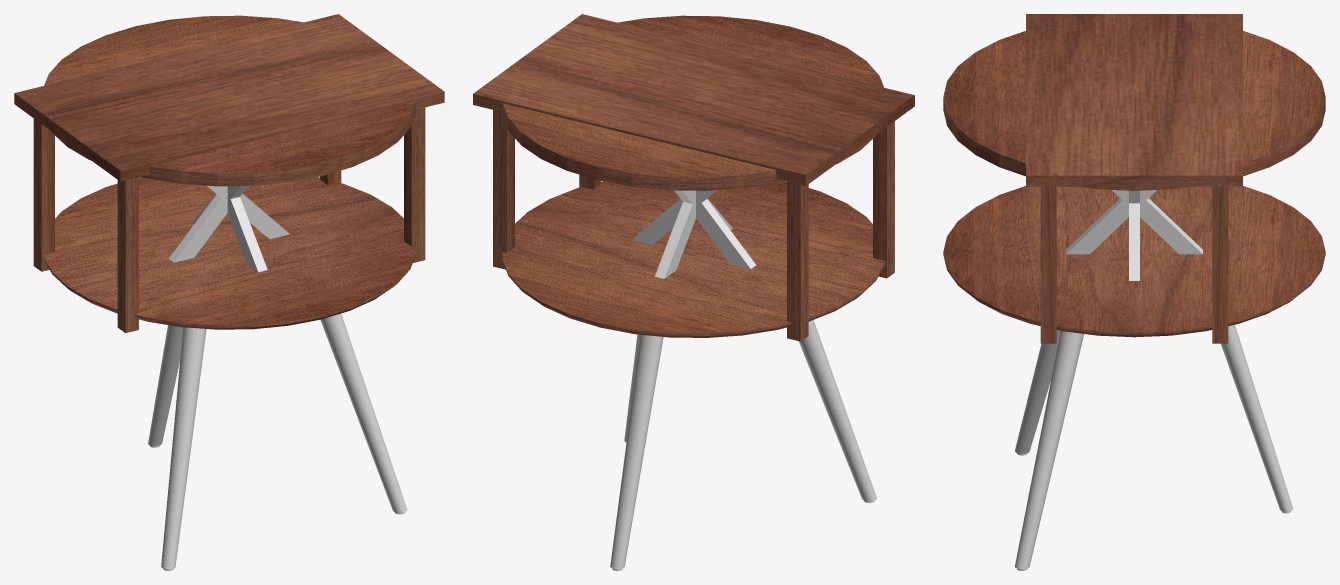
The model's file is Table.fbx.
3 views of the same model, side by side, from view 1: azimuth 30°, elevation 25°; view 2: azimuth 150°, elevation 25°; view 3: azimuth 270°, elevation 25° (orthographic). The views are drawn at different scales.
Parts seen in each view (by area): view 1: Top.001, Cube, Top, Bottom, Cube.001, Bottom.001; view 2: Top.001, Cube, Top, Cube.001, Bottom, Bottom.001; view 3: Top.001, Cube, Top, Bottom, Cube.001, Bottom.001.
Part boxes in pixels (x1=…): Top.001: x1=43, y1=177, x2=416, y2=329; Cube: x1=14, y1=14, x2=444, y2=181; Top: x1=44, y1=15, x2=416, y2=186; Bottom: x1=148, y1=313, x2=407, y2=570; Cube.001: x1=33, y1=107, x2=425, y2=333; Bottom.001: x1=168, y1=185, x2=289, y2=271; Top.001: x1=502, y1=181, x2=884, y2=337; Cube: x1=473, y1=14, x2=914, y2=185; Top: x1=502, y1=15, x2=883, y2=190; Cube.001: x1=493, y1=110, x2=894, y2=341; Bottom: x1=610, y1=320, x2=876, y2=570; Bottom.001: x1=632, y1=190, x2=755, y2=278; Top.001: x1=943, y1=186, x2=1325, y2=337; Cube: x1=1026, y1=14, x2=1242, y2=186; Top: x1=943, y1=31, x2=1325, y2=190; Bottom: x1=1015, y1=324, x2=1293, y2=570; Cube.001: x1=1040, y1=186, x2=1228, y2=343; Bottom.001: x1=1066, y1=190, x2=1202, y2=280.
Size of the model in its own units: 200 by 240 by 200.
